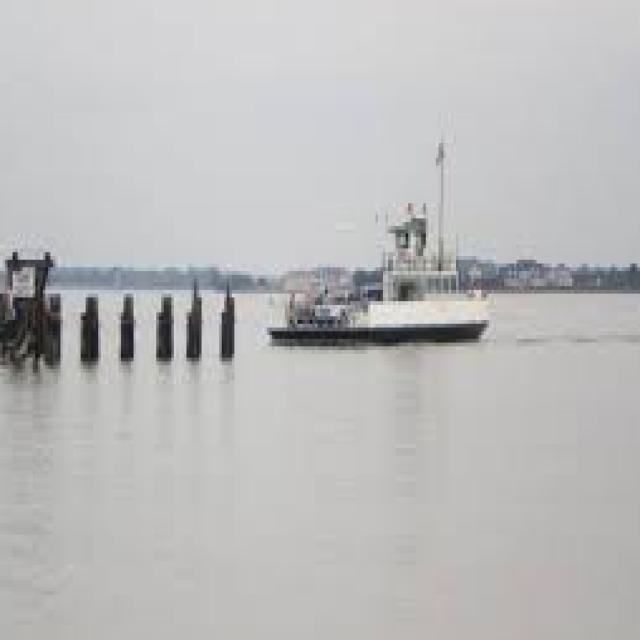houseboat: (270, 137, 494, 344)
